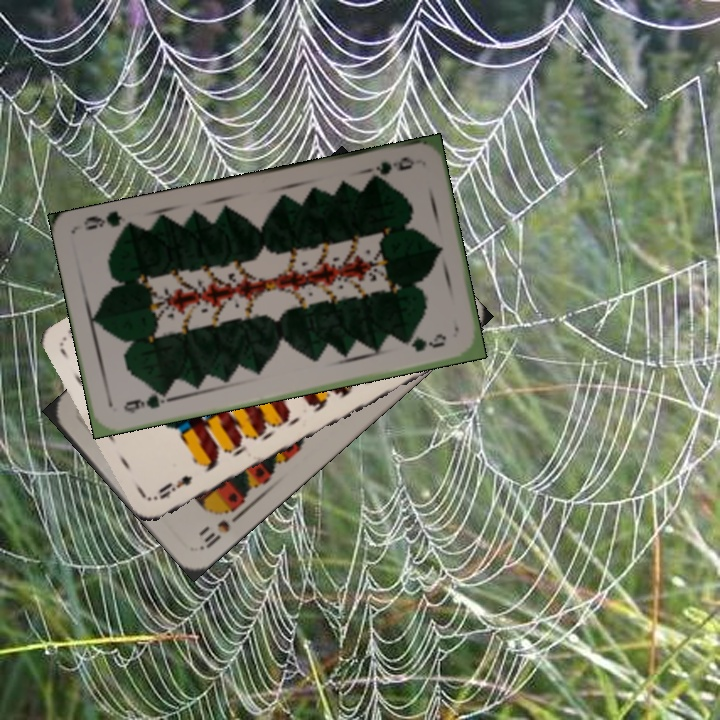E9: (152, 471, 195, 502)
G9: (363, 153, 417, 183), (119, 387, 172, 416)
S10: (196, 508, 246, 552)
